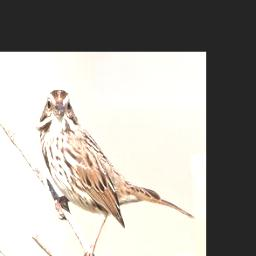Sparrow: (34, 87, 197, 256)
